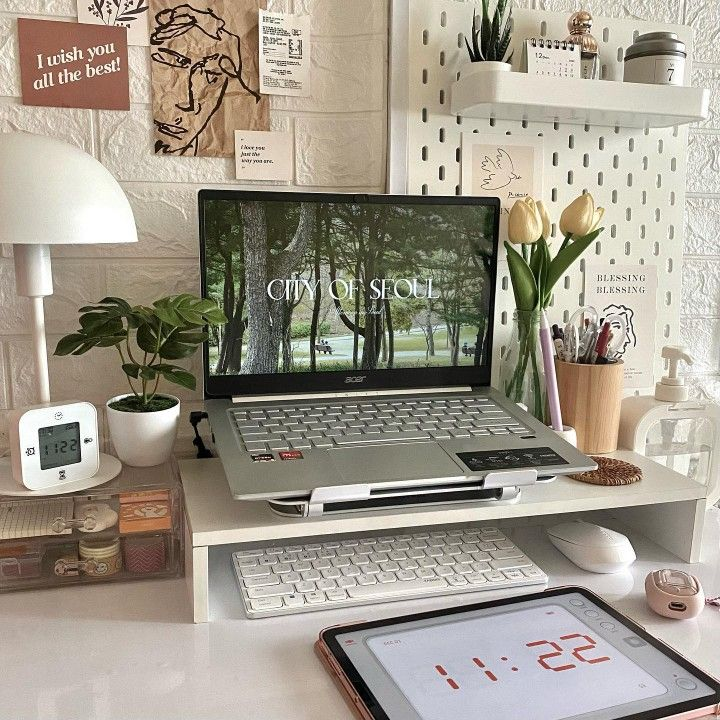not a gesture sign: (185, 194, 563, 485)
